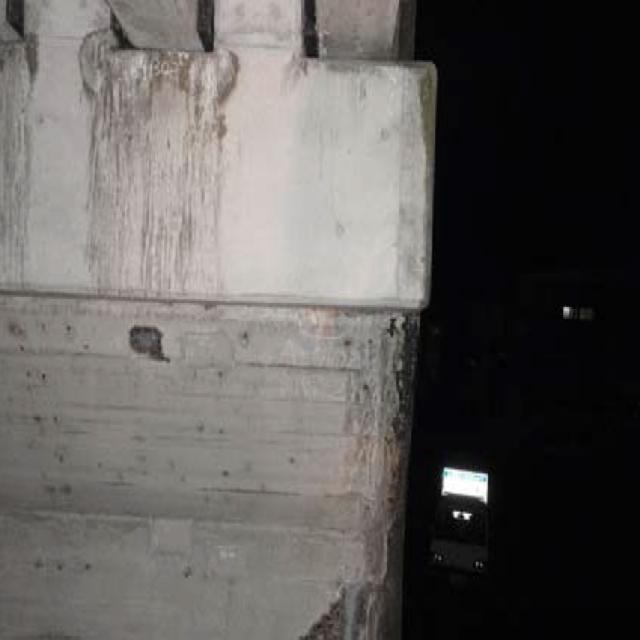leakage: (69, 26, 237, 296)
